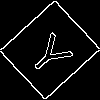Y: (24, 25, 81, 81)
